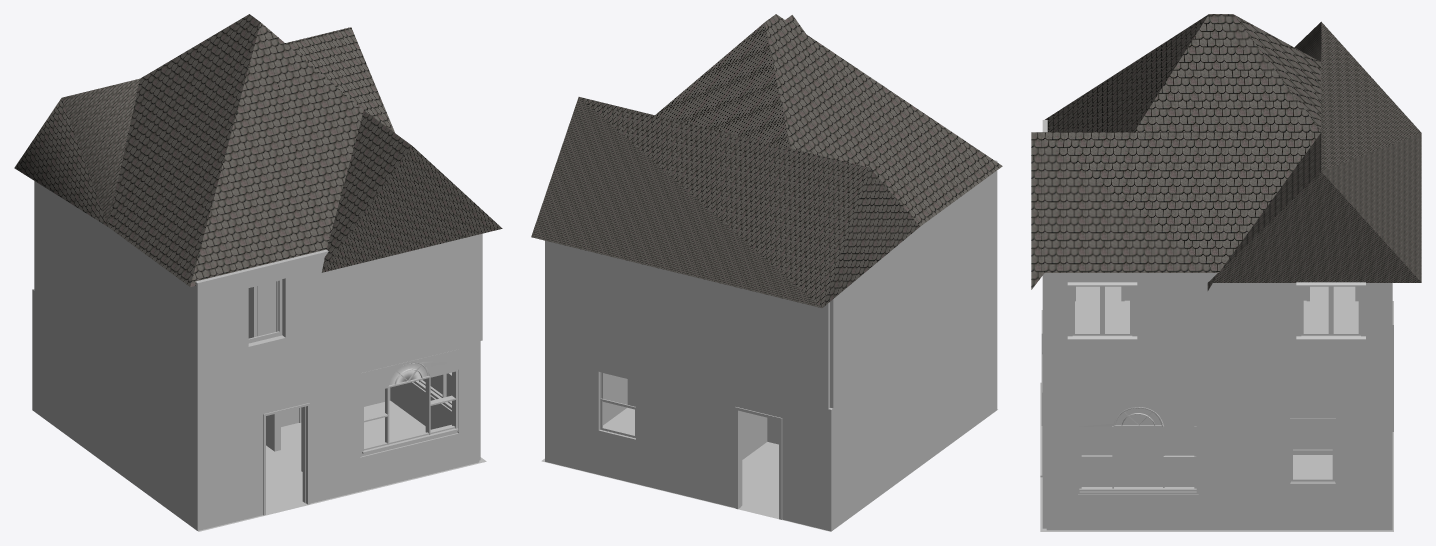
Rendered from victorian.gltf.
3 renders of one model, left to right at view 1: azimuth 30°, elevation 25°; view 2: azimuth 150°, elevation 25°; view 3: azimuth 270°, elevation 25°, orthographic. The views are drawn at different scales.
Parts seen in each view (by area): view 1: victorian, Victorian House 2 8 edit 2.002; view 2: victorian, Victorian House 2 8 edit 2.002; view 3: victorian, Victorian House 2 8 edit 2.002.
Boxes of the visible parts, x1=… form: victorian: x1=32, y1=181, x2=486, y2=531; Victorian House 2 8 edit 2.002: x1=14, y1=14, x2=502, y2=286; victorian: x1=541, y1=160, x2=997, y2=531; Victorian House 2 8 edit 2.002: x1=531, y1=14, x2=1002, y2=307; victorian: x1=1040, y1=120, x2=1393, y2=531; Victorian House 2 8 edit 2.002: x1=1031, y1=14, x2=1421, y2=290.
Bounding box in the file's own units: 6.67 × 8.61 × 6.9.
